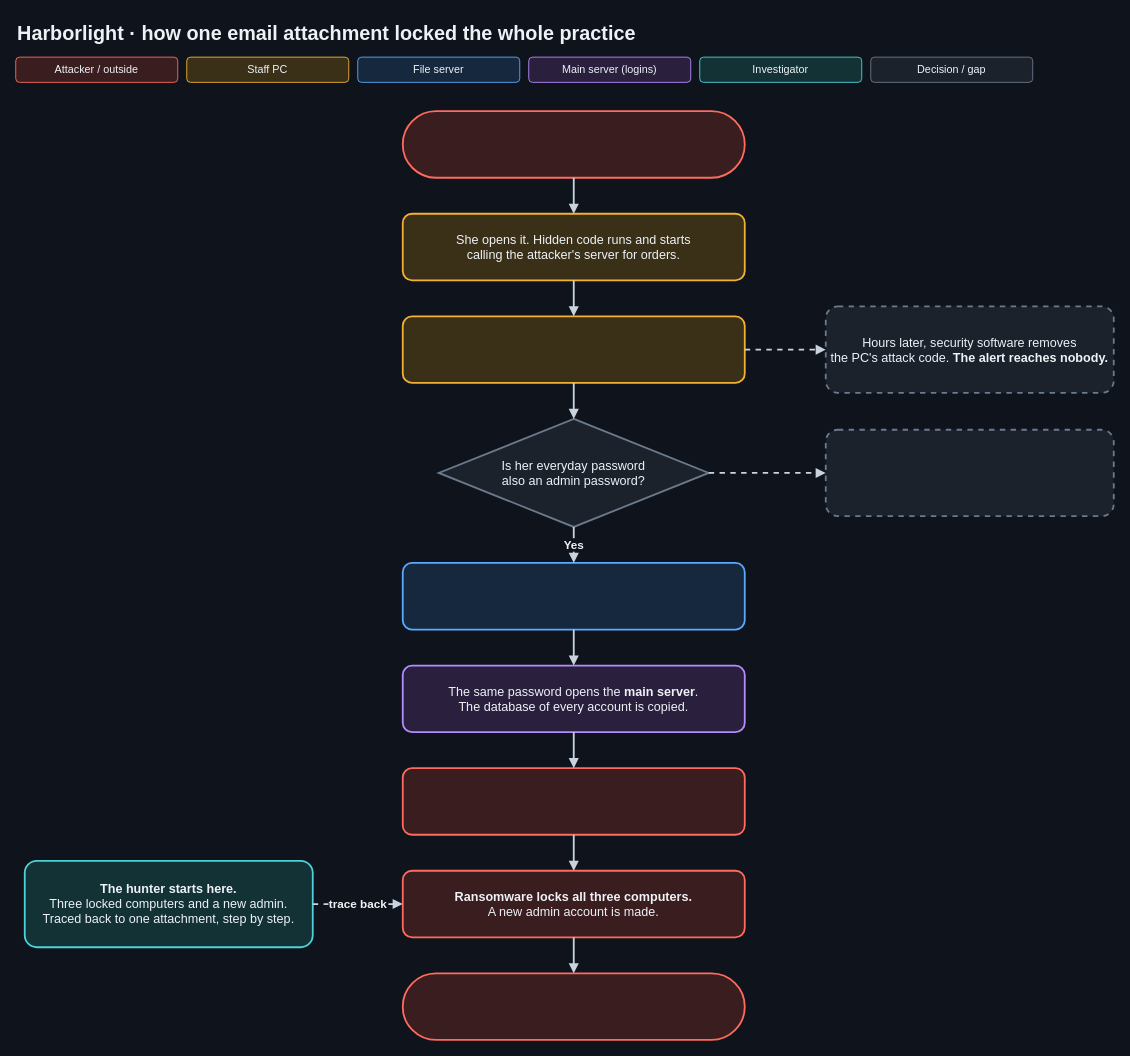
This 1130x1056 diagram has some shape labels left out. The shapes that lost their labels are listed below. From the top down, each one's box as (x1, y1, x2, y2) in pixels, then its label:
(401, 110, 745, 178): Start: an email with a fake disk-image file reaches a staff member
(401, 315, 745, 383): It gives itself full control of her PC .
(824, 428, 1114, 517): The gap. Separate admin accounts with a second sign-in step stop it here.
(401, 562, 745, 630): Her password opens the file server . A script switches its antivirus off.
(401, 767, 745, 835): Shared files (patient and claims data) are copied to MEGA. Backups are deleted.
(401, 972, 745, 1040): End: the main server is still taking the attacker's orders when the data ends.
